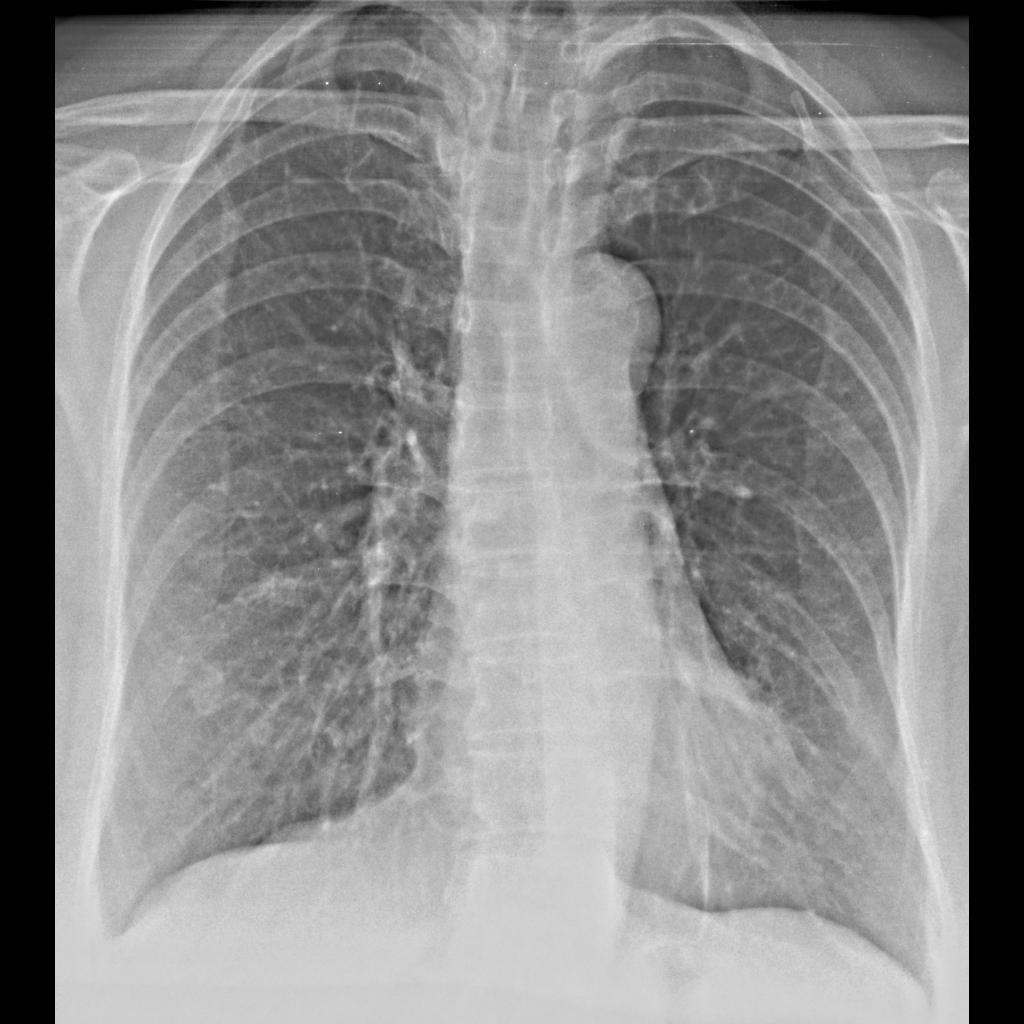Nodule: (176, 652, 235, 726)
